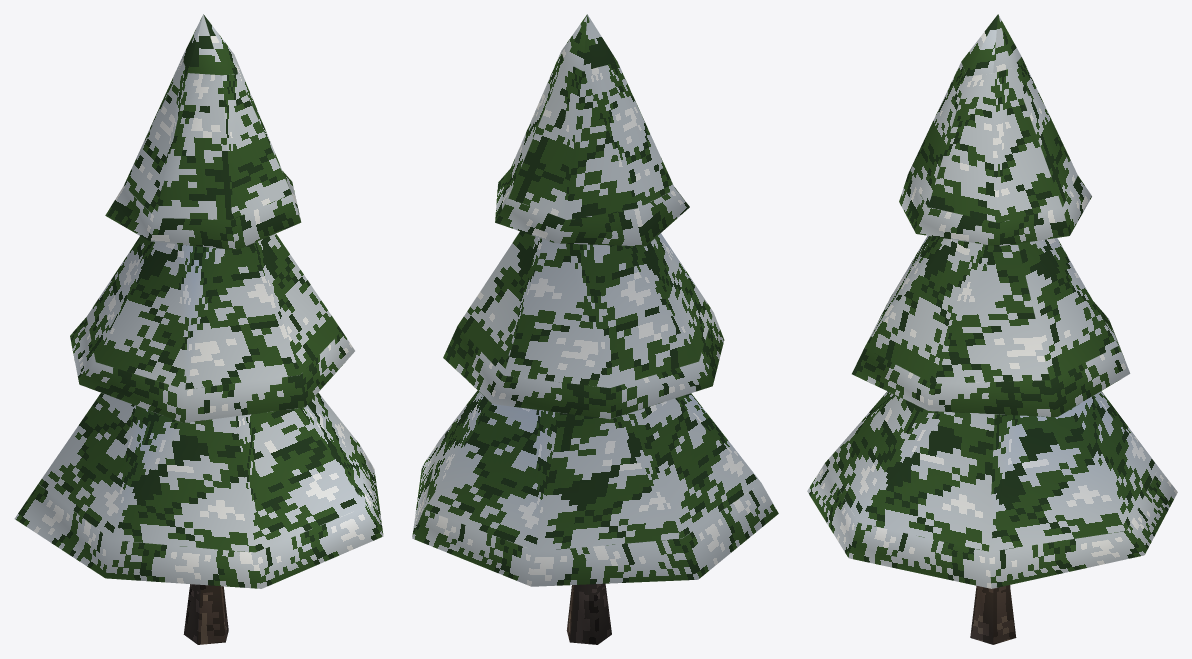
File: mnat.pine__short.glb
3 views of the same model, side by side, from view 1: azimuth 30°, elevation 25°; view 2: azimuth 150°, elevation 25°; view 3: azimuth 270°, elevation 25° (orthographic).
Visible parts, largest first — view 1: kit_tiers, kit_trunk; view 2: kit_tiers, kit_trunk; view 3: kit_tiers, kit_trunk.
Boxes of the visible parts, x1,y1,x2,y2 form: kit_tiers: (14,14,383,588); kit_trunk: (183,584,228,644); kit_tiers: (412,14,778,586); kit_trunk: (566,583,611,644); kit_tiers: (807,14,1177,588); kit_trunk: (970,585,1016,644).
Size of the model in its own units: 2.7 by 5.04 by 2.73.
Materials: 2 (2 with a texture image).
